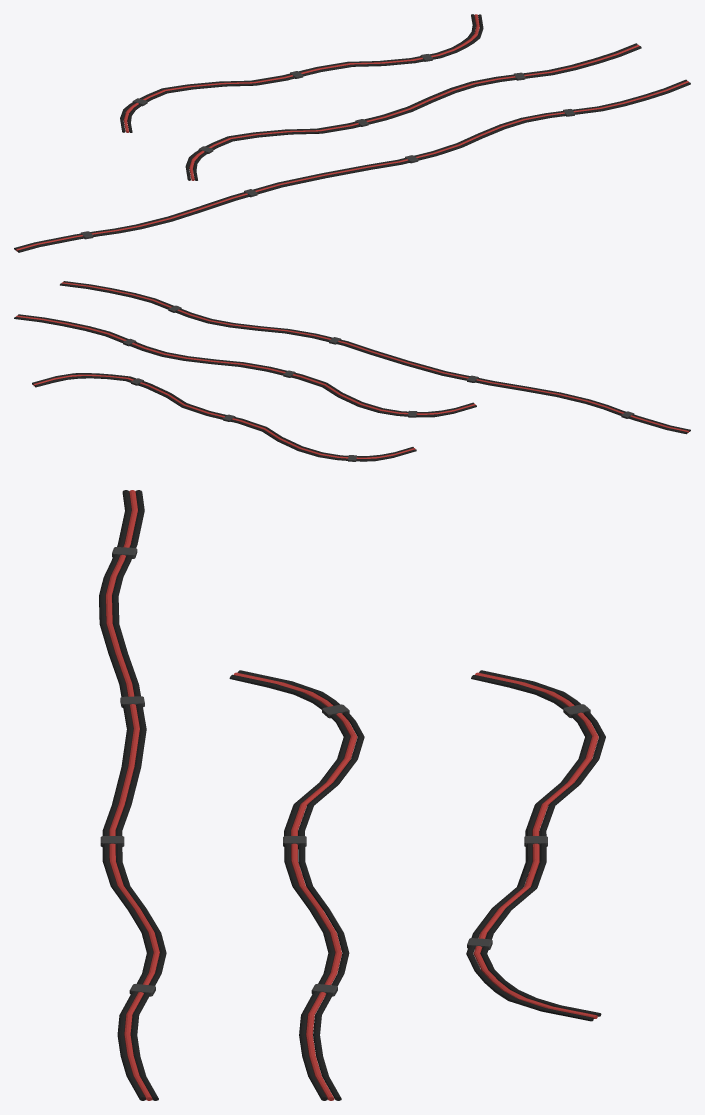
File: Cables.fbx
The picture shows the model from 3 angles, top to bottom: view 1: azimuth 30°, elevation 25°; view 2: azimuth 150°, elevation 25°; view 3: azimuth 270°, elevation 25°; orthographic projection. The views are drawn at different scales.
Parts seen in each view (by area): view 1: CableRecto, CableRectoCurva, CableCurvas, Cube.008; view 2: CableRecto, CableRectoCurva, CableCurvas, Cube.008; view 3: CableRecto, CableRectoCurva, CableCurvas, Cube.008.
Part boxes in pixels (x1=…): CableRecto: x1=14, y1=79, x2=690, y2=252; CableRectoCurva: x1=185, y1=43, x2=641, y2=180; CableCurvas: x1=120, y1=14, x2=483, y2=132; Cube.008: x1=80, y1=54, x2=574, y2=239; CableRecto: x1=60, y1=281, x2=690, y2=434; CableRectoCurva: x1=14, y1=314, x2=476, y2=417; CableCurvas: x1=32, y1=373, x2=416, y2=461; Cube.008: x1=123, y1=305, x2=634, y2=461; CableRecto: x1=99, y1=490, x2=166, y2=1100; CableRectoCurva: x1=229, y1=670, x2=364, y2=1100; CableCurvas: x1=466, y1=670, x2=605, y2=1021; Cube.008: x1=100, y1=547, x2=590, y2=996.
Size of the model in its own units: 2035 by 7.57 by 718.
